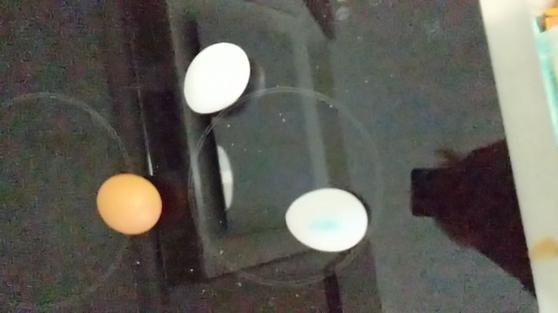egg: (278, 185, 366, 253), (87, 170, 166, 237), (181, 41, 250, 116)
